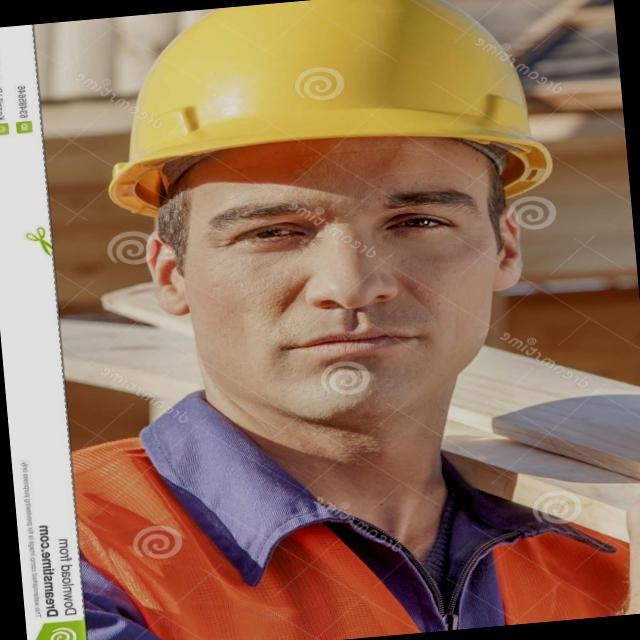helmet: (65, 0, 580, 235)
no-goggles: (169, 193, 492, 272)
